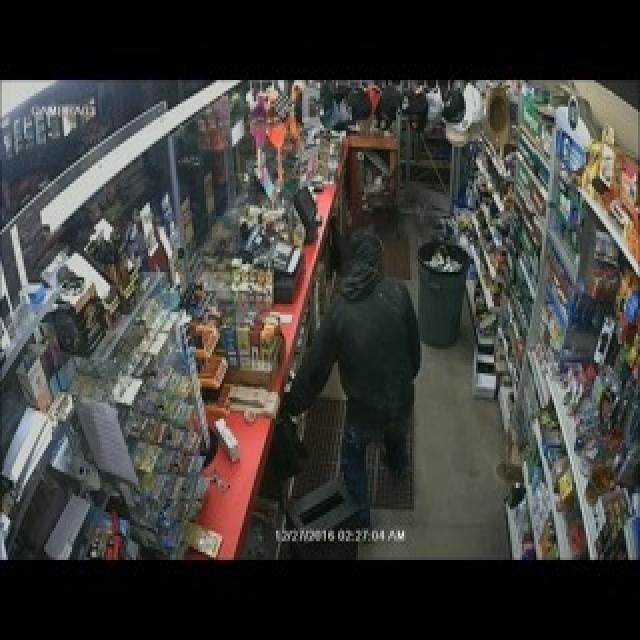thief: (330, 229, 425, 404)
